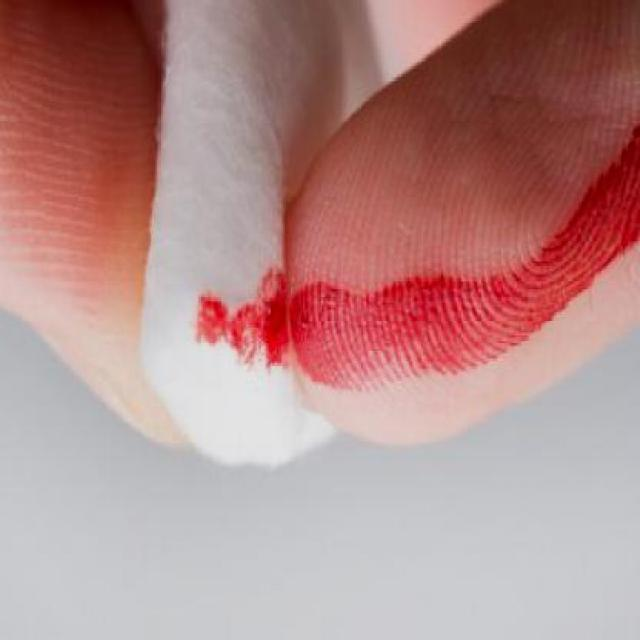wound: (180, 222, 350, 424)
